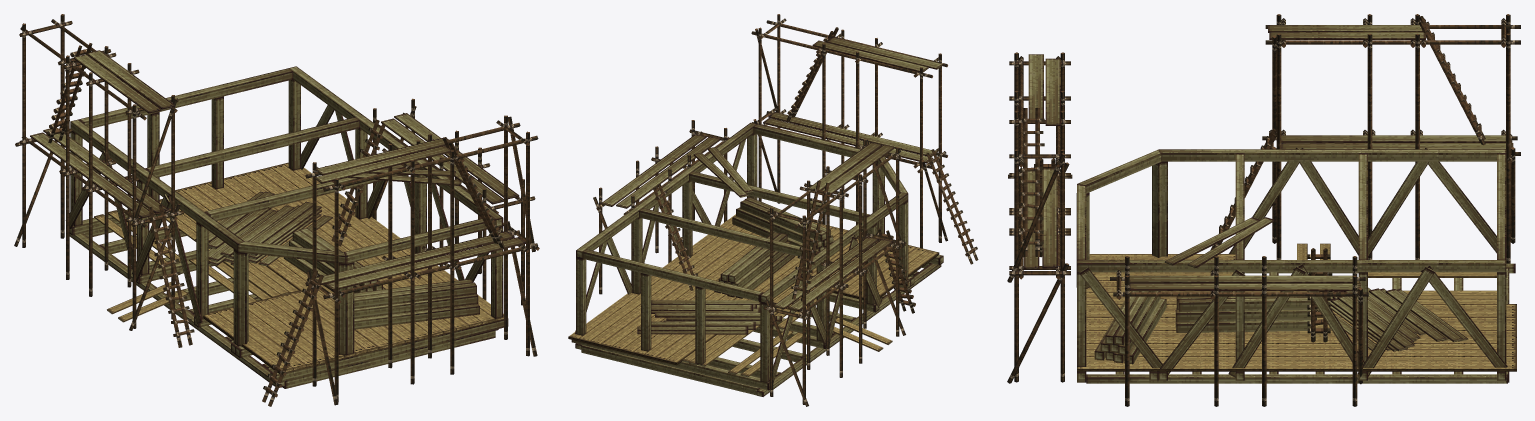
Rendered from EnvBdgMD_Wilderness_A_Outdoor_Shop_Store.FBX.
The picture shows the model from 3 angles, left to right: view 1: azimuth 30°, elevation 25°; view 2: azimuth 150°, elevation 25°; view 3: azimuth 270°, elevation 25°; orthographic projection. The views are drawn at different scales.
Parts seen in each view (by area): view 1: EnvBdgMD_Wilderness_A_Outdoor_Shop_Store; view 2: EnvBdgMD_Wilderness_A_Outdoor_Shop_Store; view 3: EnvBdgMD_Wilderness_A_Outdoor_Shop_Store.
Boxes of the visible parts, x1=… form: EnvBdgMD_Wilderness_A_Outdoor_Shop_Store: x1=14, y1=14, x2=539, y2=406; EnvBdgMD_Wilderness_A_Outdoor_Shop_Store: x1=568, y1=14, x2=978, y2=406; EnvBdgMD_Wilderness_A_Outdoor_Shop_Store: x1=1007, y1=14, x2=1520, y2=406.
Bounding box in the file's own units: 1288 × 861 × 1670.
1 material, 1 textured.
